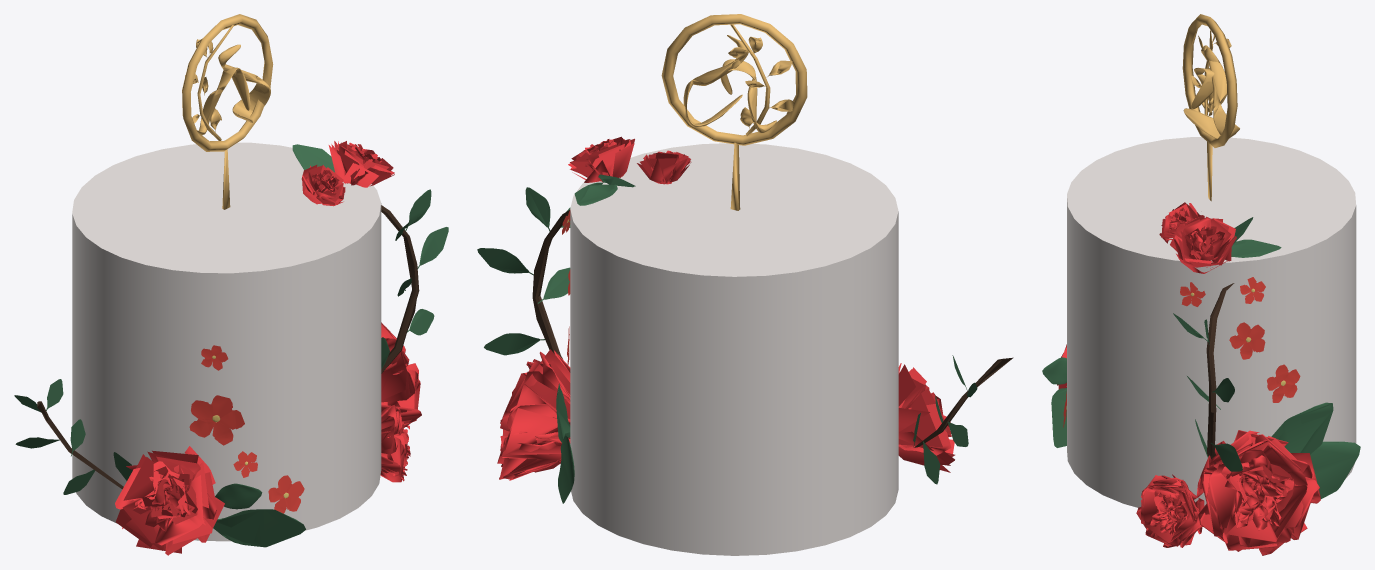
Rendered from 1-tier-white.glb.
3 renders of one model, left to right at view 1: azimuth 30°, elevation 25°; view 2: azimuth 150°, elevation 25°; view 3: azimuth 270°, elevation 25°, orthographic. The views are drawn at different scales.
Parts seen in each view (by area): view 1: Cylinder.019, grid.039, Cylinder.017, Plane.083, Plane.074, Plane.075, grid.038, grid.041, grid.033, Sphere.050, grid.035, Sphere.054 (+2 smaller); view 2: Cylinder.019, Cylinder.017, grid.038, Plane.083, grid.039, grid.041, Plane.075, grid.035, Plane.080, Plane.086; view 3: Cylinder.019, grid.038, Cylinder.017, grid.033, grid.041, Plane.083, Plane.079, Plane.080, Sphere.057, Sphere.059, Plane.074, grid.035 (+4 smaller).
Part boxes in pixels (x1,y1,x2,y2): Cylinder.019: [72, 142, 381, 541]; grid.039: [115, 446, 224, 555]; Cylinder.017: [182, 14, 273, 209]; Plane.083: [381, 189, 448, 373]; Plane.074: [213, 509, 305, 547]; Plane.075: [14, 379, 132, 494]; grid.038: [381, 322, 421, 429]; grid.041: [328, 141, 394, 187]; grid.033: [380, 405, 410, 482]; Sphere.050: [189, 395, 244, 445]; grid.035: [301, 165, 345, 206]; Sphere.054: [268, 475, 304, 513]; Cylinder.019: [570, 143, 898, 555]; Cylinder.017: [661, 14, 807, 210]; grid.038: [497, 349, 570, 480]; Plane.083: [477, 187, 570, 358]; grid.039: [898, 363, 954, 472]; grid.041: [568, 136, 634, 182]; Plane.075: [913, 355, 1013, 484]; grid.035: [637, 150, 691, 184]; Plane.080: [558, 435, 574, 503]; Plane.086: [574, 182, 617, 205]; Cylinder.019: [1067, 137, 1356, 507]; grid.038: [1196, 430, 1320, 555]; Cylinder.017: [1182, 14, 1239, 201]; grid.033: [1136, 474, 1204, 547]; grid.041: [1170, 215, 1236, 273]; Plane.083: [1173, 283, 1242, 471]; Plane.079: [1271, 402, 1333, 454]; Plane.080: [1310, 441, 1360, 499]; Sphere.057: [1229, 322, 1265, 359]; Sphere.059: [1267, 364, 1300, 402]; Plane.074: [1051, 388, 1066, 447]; grid.035: [1159, 202, 1201, 243].
Size of the model in its own units: 4.49 by 4.46 by 2.81.
